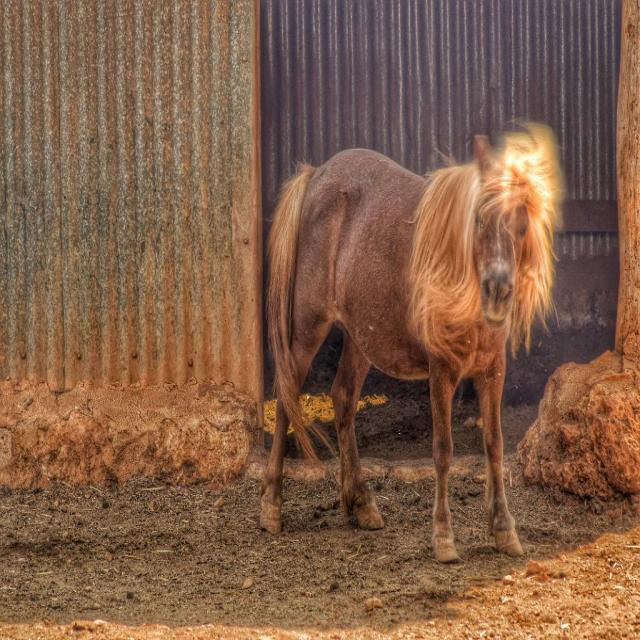Horse: (256, 115, 565, 568)
